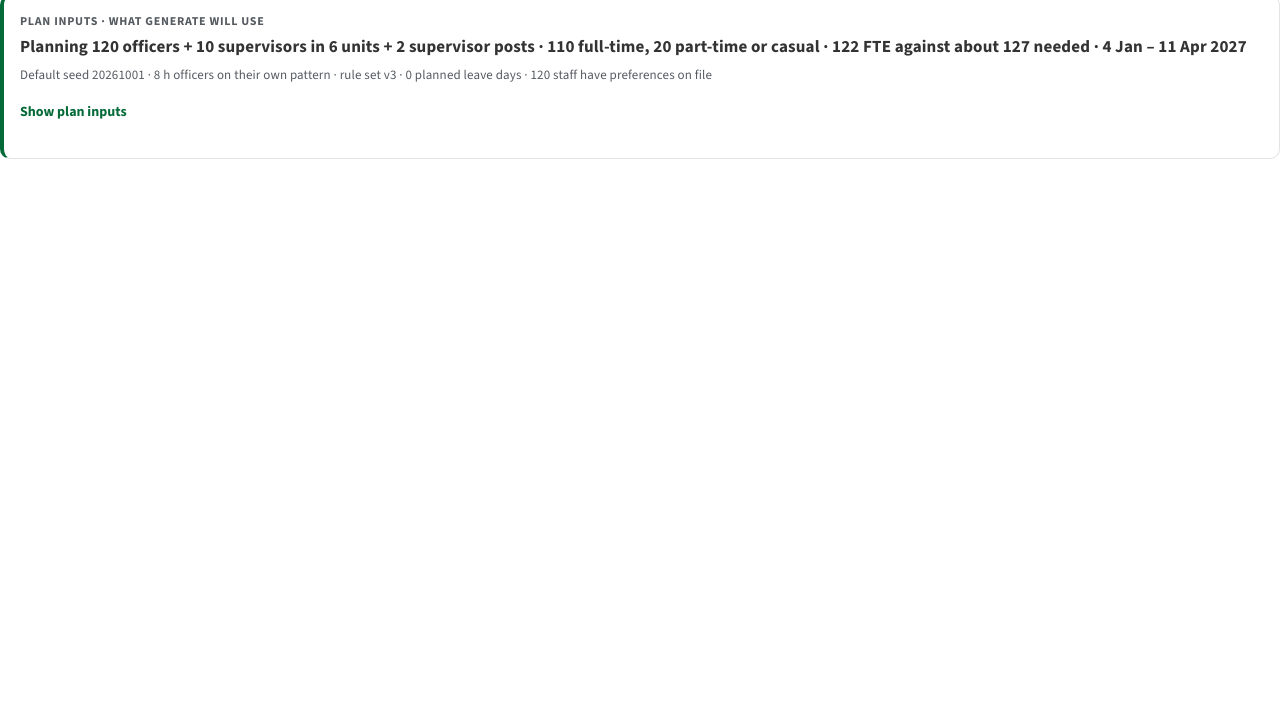
it: the plan inputs card › lists the supervisor posts in their own table, below the officer units (release v1.3 S7)
The width and height of the screenshot is (1280, 706).
Click the button "Show plan inputs" at (73, 112), box top-left (20, 90), bottom-right (127, 134)
(page scrolled)
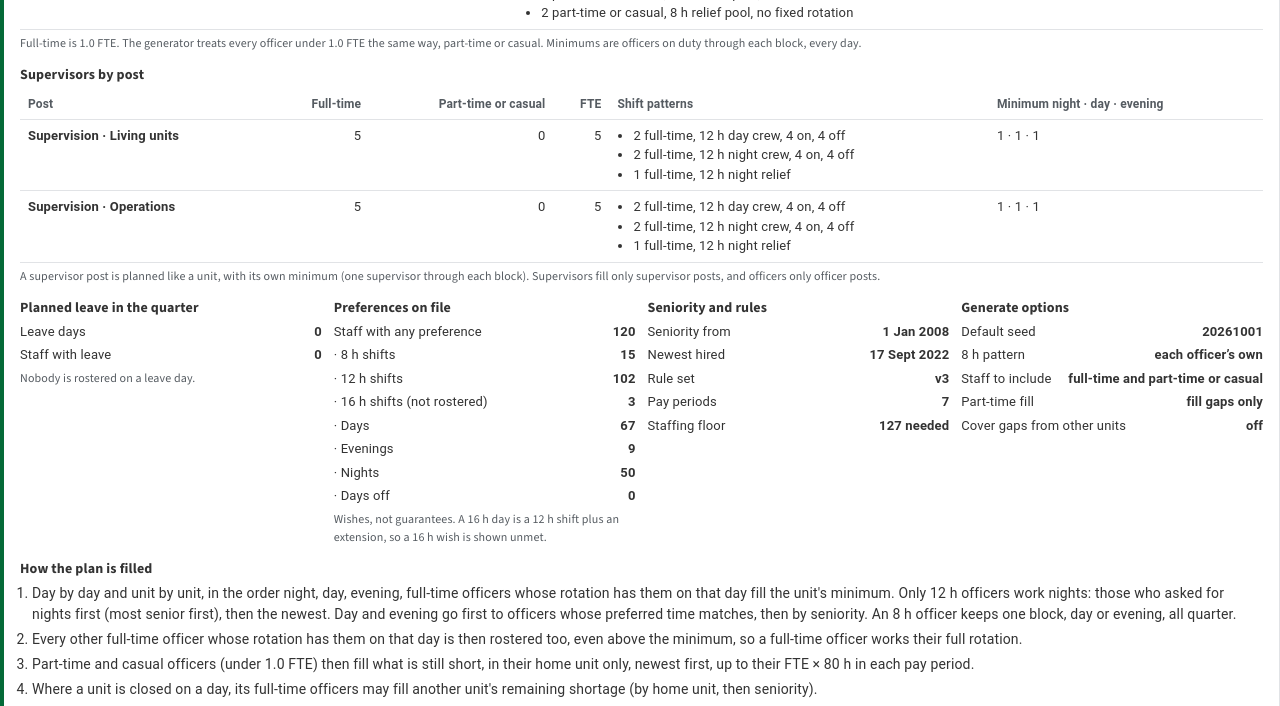
Result: the row "Supervision · Living units" shows "2 full-time, 12 h day crew, 4 on, 4 off" at top-left (20, 119), bottom-right (1263, 191)
Result: the row "Supervision · Living units" shows "1 · 1 · 1" at top-left (20, 119), bottom-right (1263, 191)
Result: the column heading "Post" is shown at top-left (20, 89), bottom-right (271, 119)
